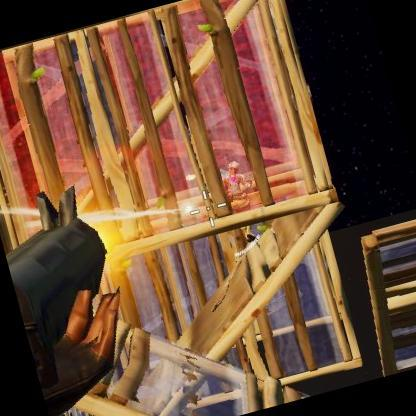person: (220, 160, 256, 235)
